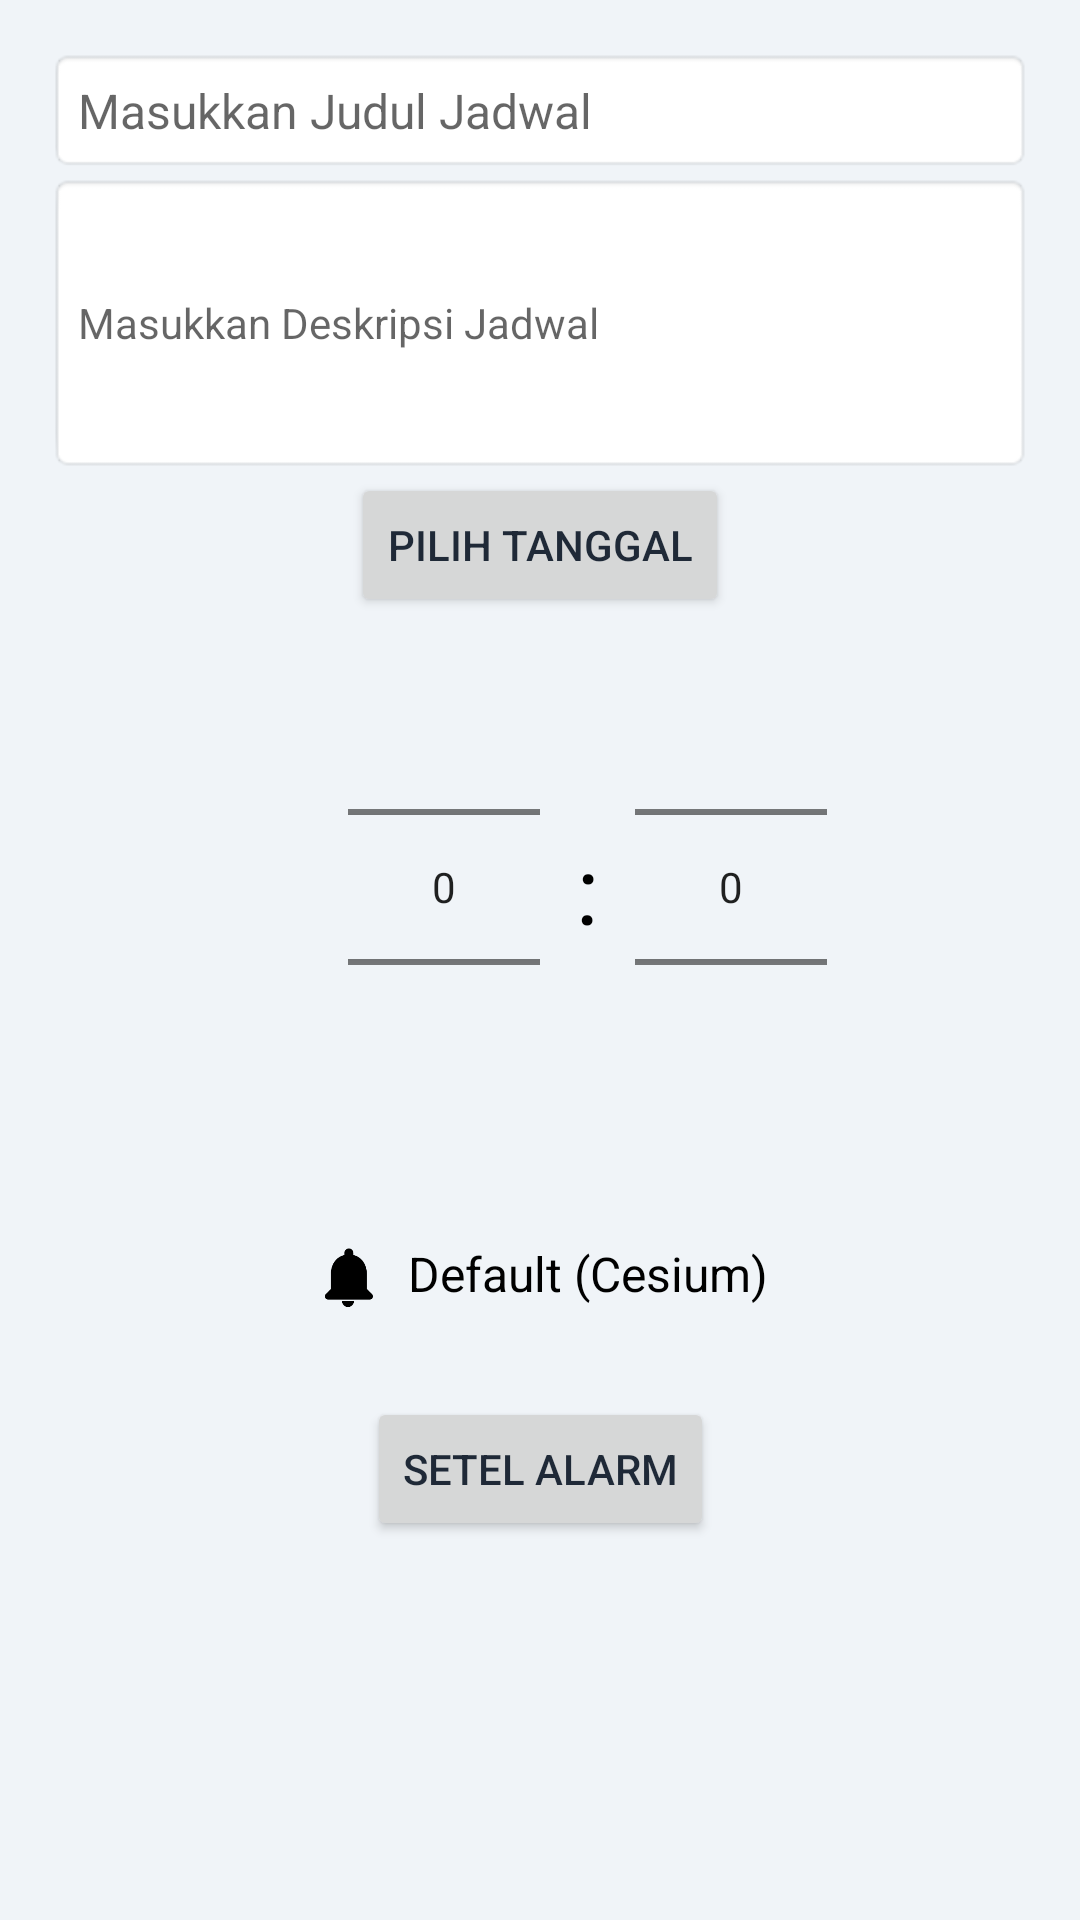

Icons on this 1080 x 1920 Android screen, each with the point to tap as [x,y]:
notifications: [349,1277]
